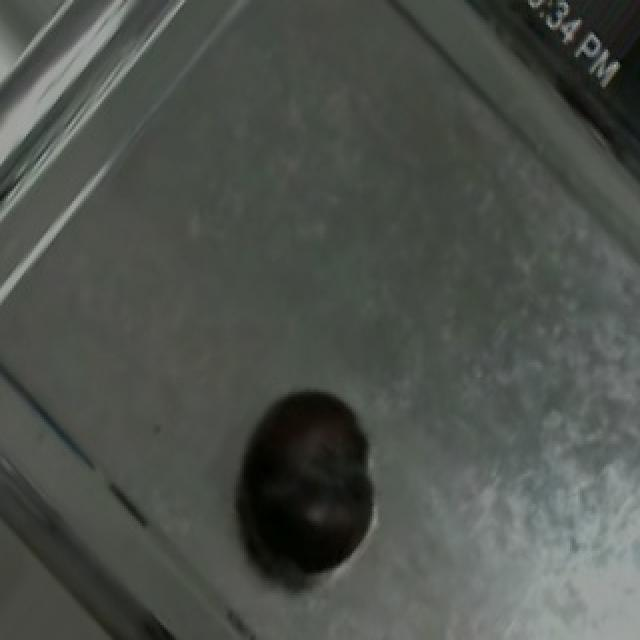Fruit: (232, 367, 384, 586)
